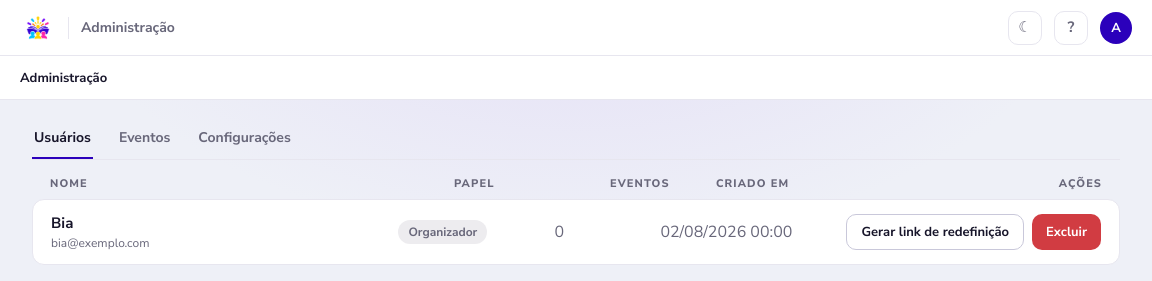
Test: Administração (super admin) › exclui usuário após confirmação
expect the text "Bia" is shown: met, box [51,213,73,233]
Click the button "Excluir" at (1067, 232), box [1032,214,1101,250]
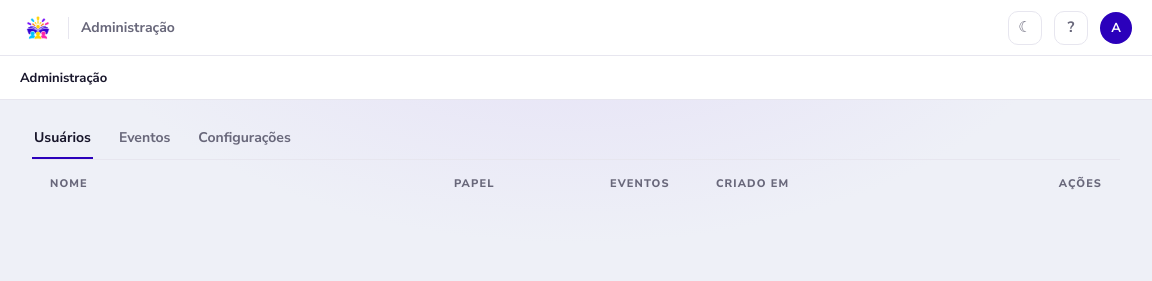
expect the text "Bia" is gone: met
